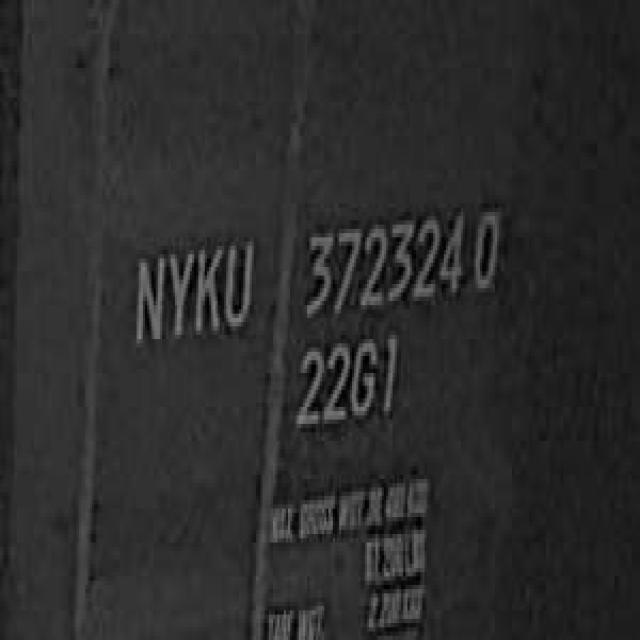dv: (469, 195, 504, 301)
owner: (128, 225, 256, 356)
serial: (303, 200, 465, 326)
size: (290, 331, 401, 432)
